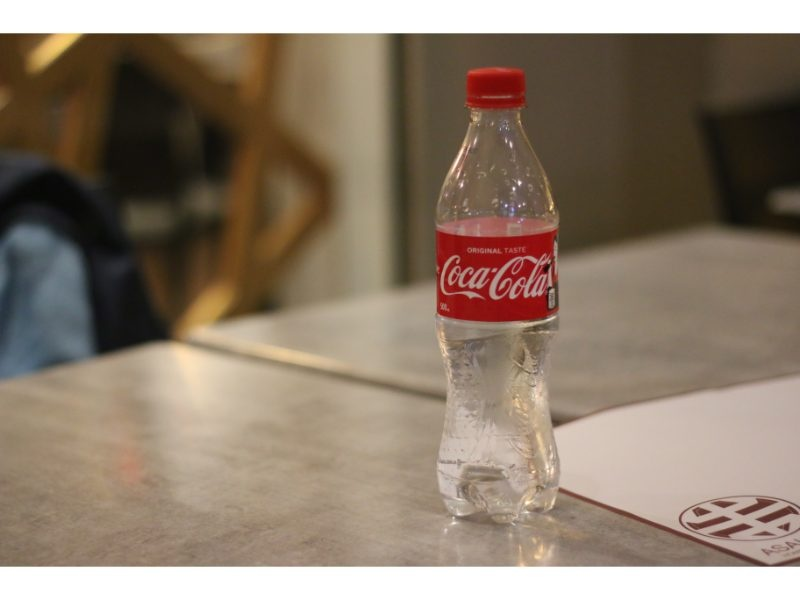PET #1: (433, 64, 571, 526)
